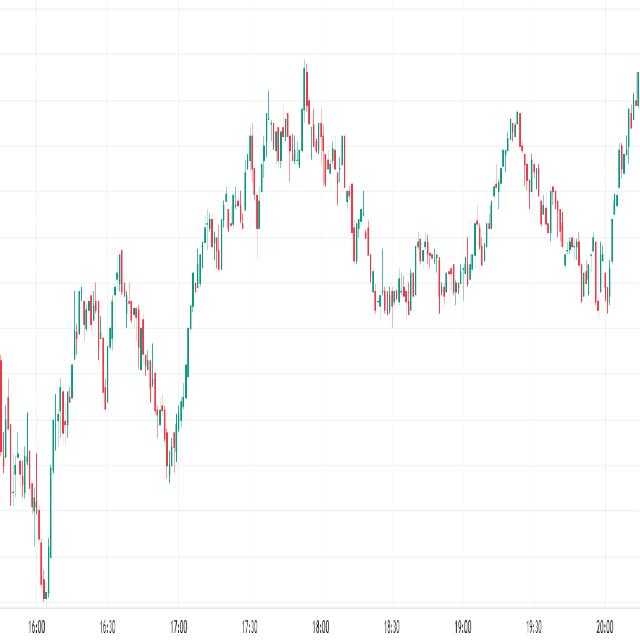Channel-down: (492, 77, 623, 359)
Double-Top: (66, 224, 154, 430)
Rounding-Top: (184, 41, 381, 284)
